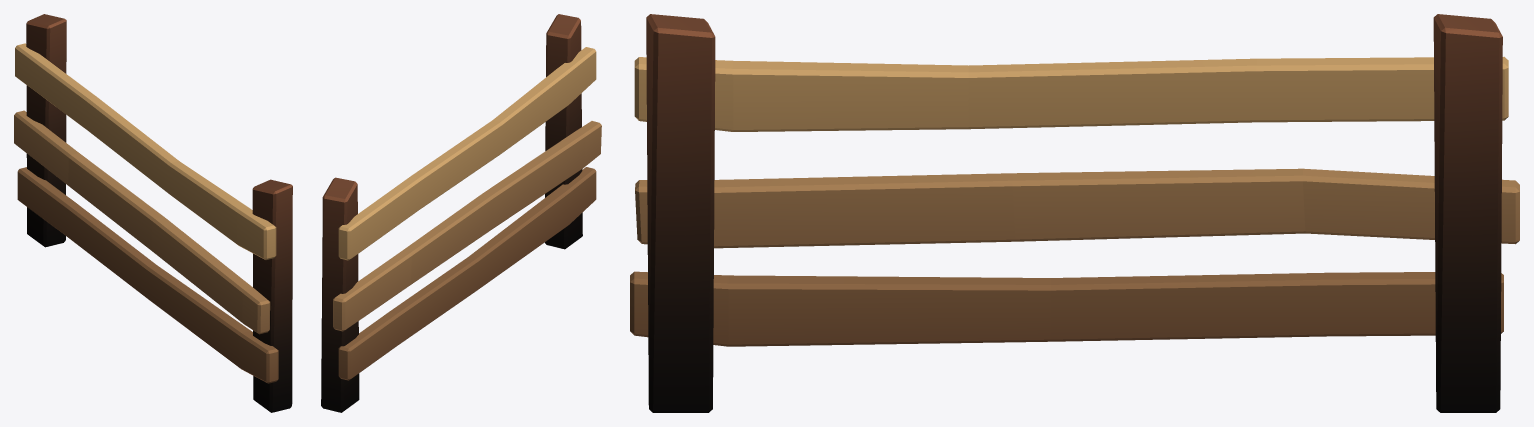
File: Fence.glb
The picture shows the model from 3 angles, left to right: view 1: azimuth 30°, elevation 25°; view 2: azimuth 150°, elevation 25°; view 3: azimuth 270°, elevation 25°; orthographic projection. The views are drawn at different scales.
Parts seen in each view (by area): view 1: Fence; view 2: Fence; view 3: Fence.
Part boxes in pixels (x1=…): Fence: x1=14, y1=14, x2=292, y2=412; Fence: x1=321, y1=14, x2=601, y2=412; Fence: x1=630, y1=14, x2=1519, y2=412.
Bounding box in the file's own units: 0.3868 × 2.03 × 4.22.
1 material, 1 textured.
